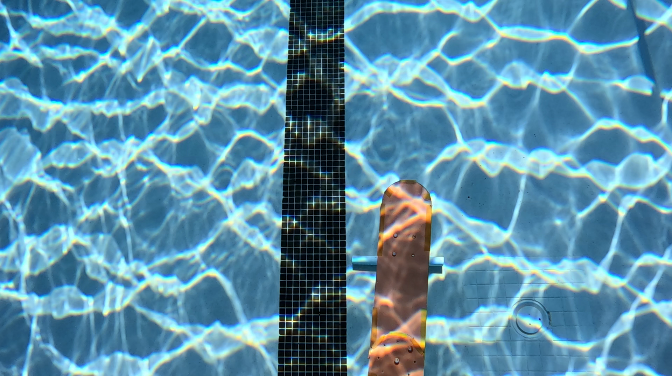pathmarker: (368, 178, 431, 375)
